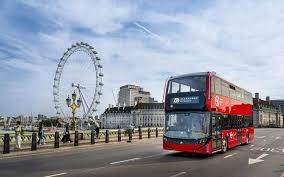bus: (160, 71, 255, 156)
